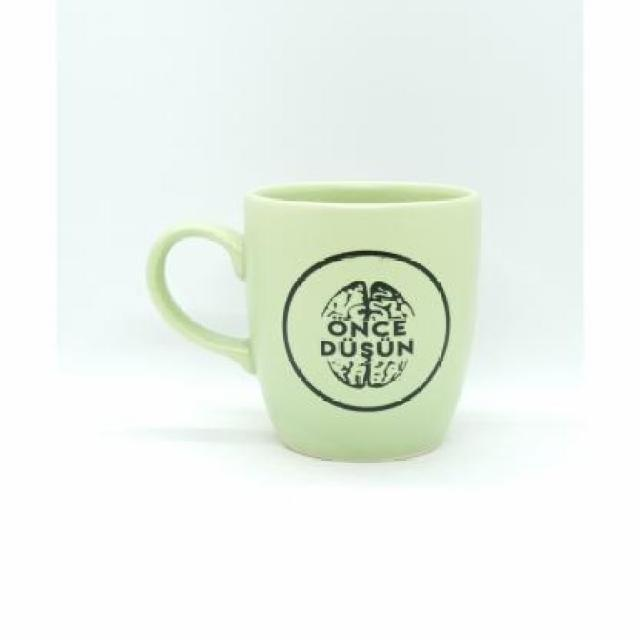taza: (142, 183, 485, 462)
